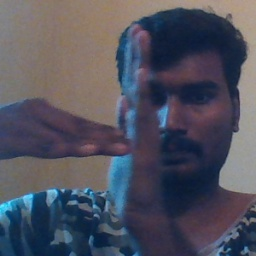Z: (48, 23, 165, 224)
